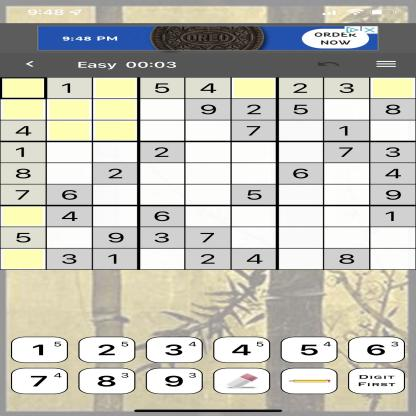sudoku: (0, 76, 416, 272)
